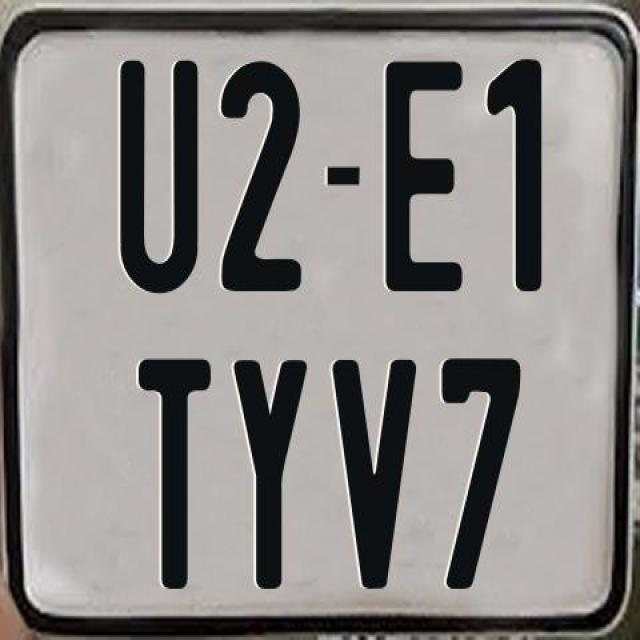1: (486, 54, 546, 294)
2: (218, 59, 298, 298)
7: (437, 355, 524, 586)
E: (384, 59, 464, 293)
T: (138, 355, 210, 595)
U: (120, 56, 204, 294)
V: (333, 356, 418, 590)
Y: (230, 360, 308, 590)
